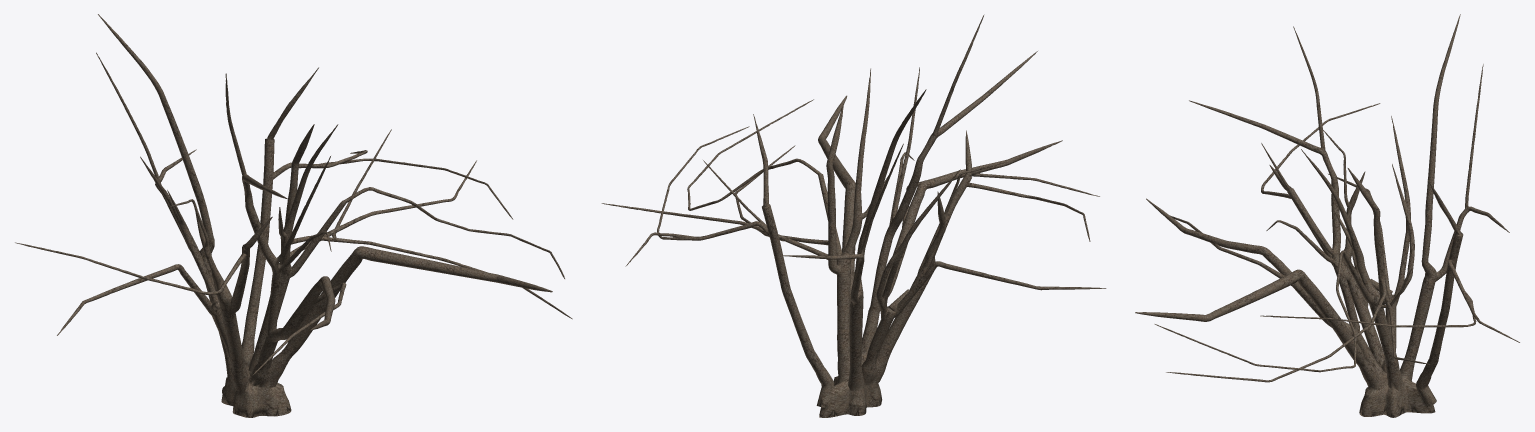
Rendered from wood.glb.
The picture shows the model from 3 angles, left to right: view 1: azimuth 30°, elevation 25°; view 2: azimuth 150°, elevation 25°; view 3: azimuth 270°, elevation 25°; orthographic projection. The views are drawn at different scales.
Visible parts, largest first — view 1: wood_lod0; view 2: wood_lod0; view 3: wood_lod0.
Boxes of the visible parts, x1,y1,x2,y2 form: wood_lod0: (15, 14, 572, 417); wood_lod0: (601, 14, 1106, 417); wood_lod0: (1135, 14, 1519, 417).
Size of what is drawn, in the model's own units: 16.53 by 12.65 by 12.77.
Materials: 1 (1 with a texture image).
